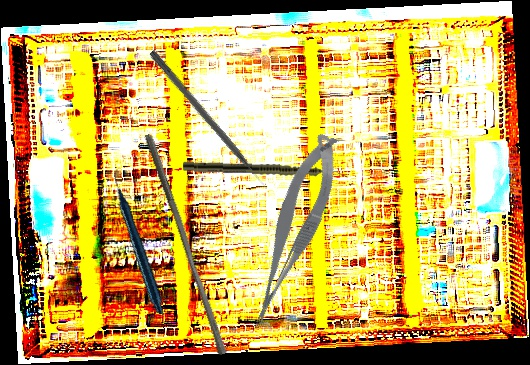Handpiece: (77, 168, 203, 316), (182, 161, 350, 179)
Micro Scissor: (227, 129, 358, 329)
Pusher: (135, 133, 235, 356), (147, 49, 270, 193)
